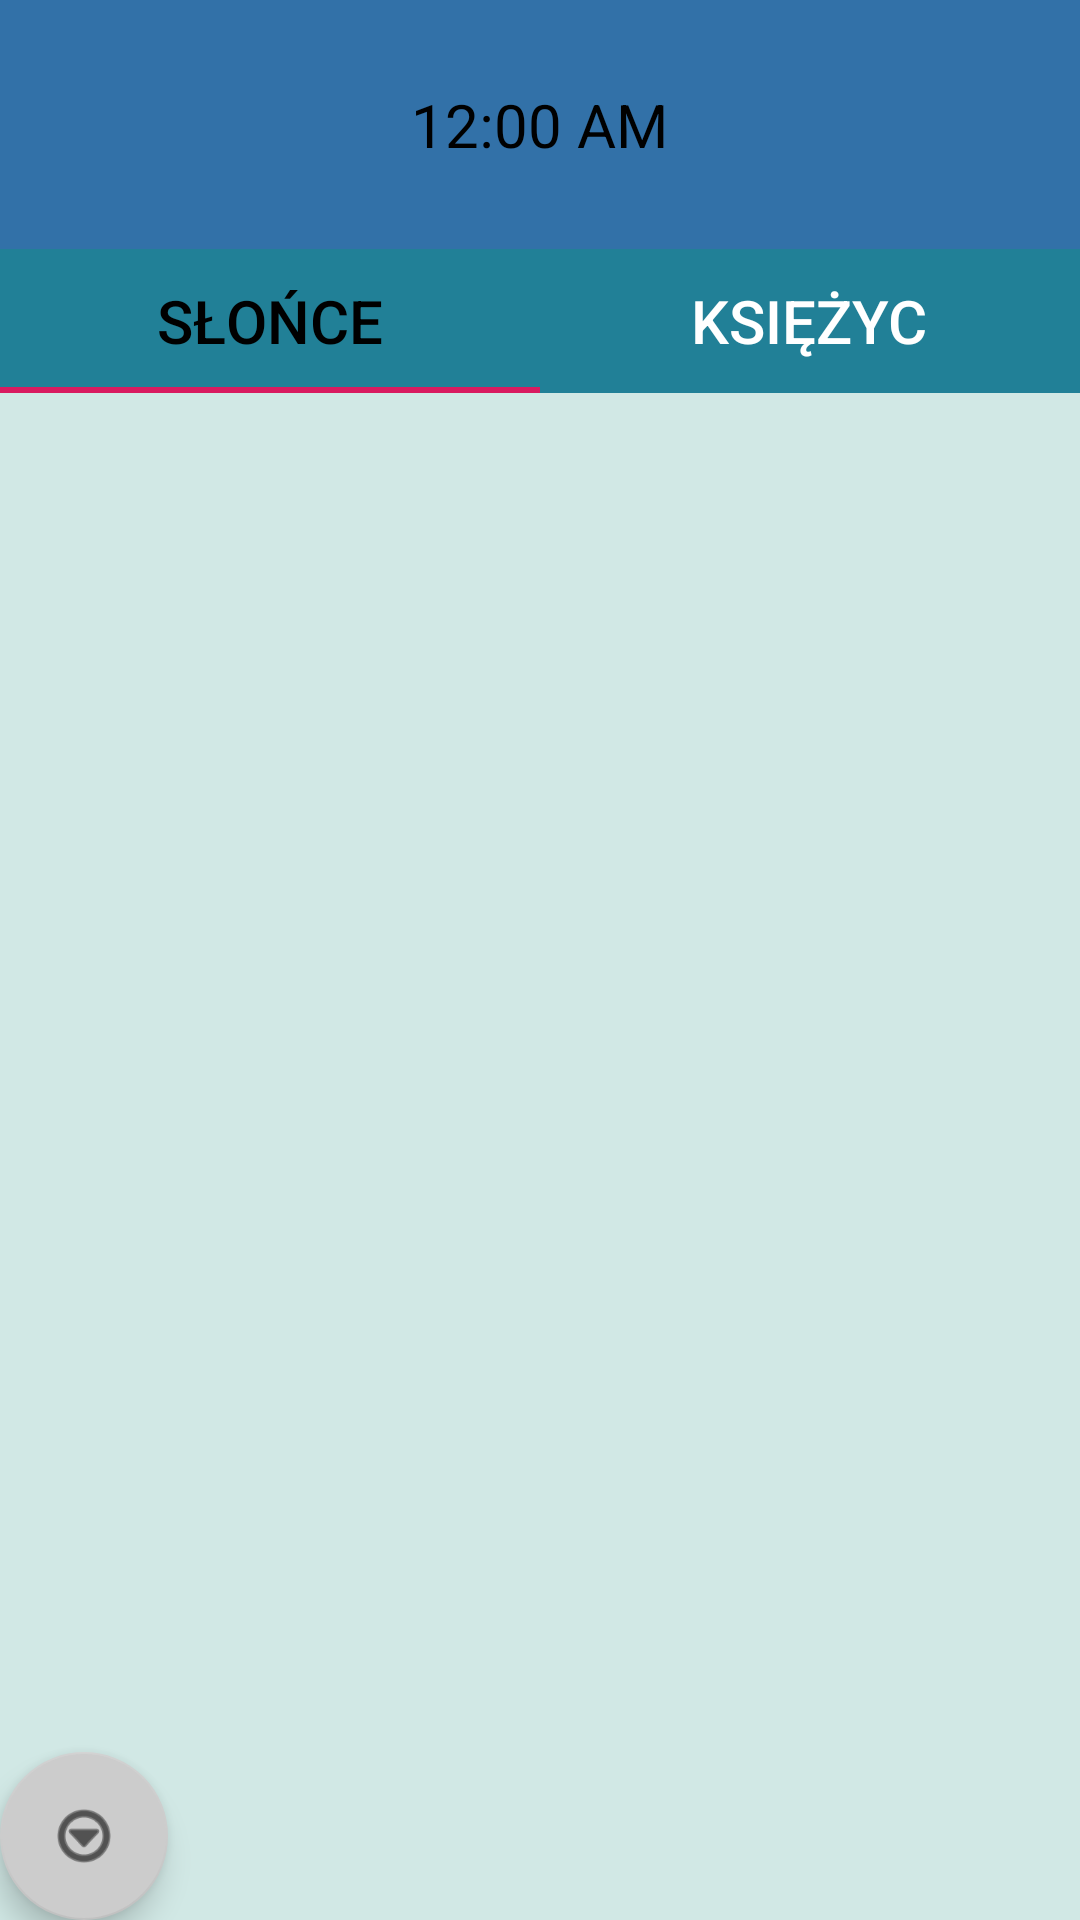

Named icons in this screenshot (1080*1920) and their bounding boxes, (x1, y1, x2, y2):
more: (0, 1754, 168, 1920)
